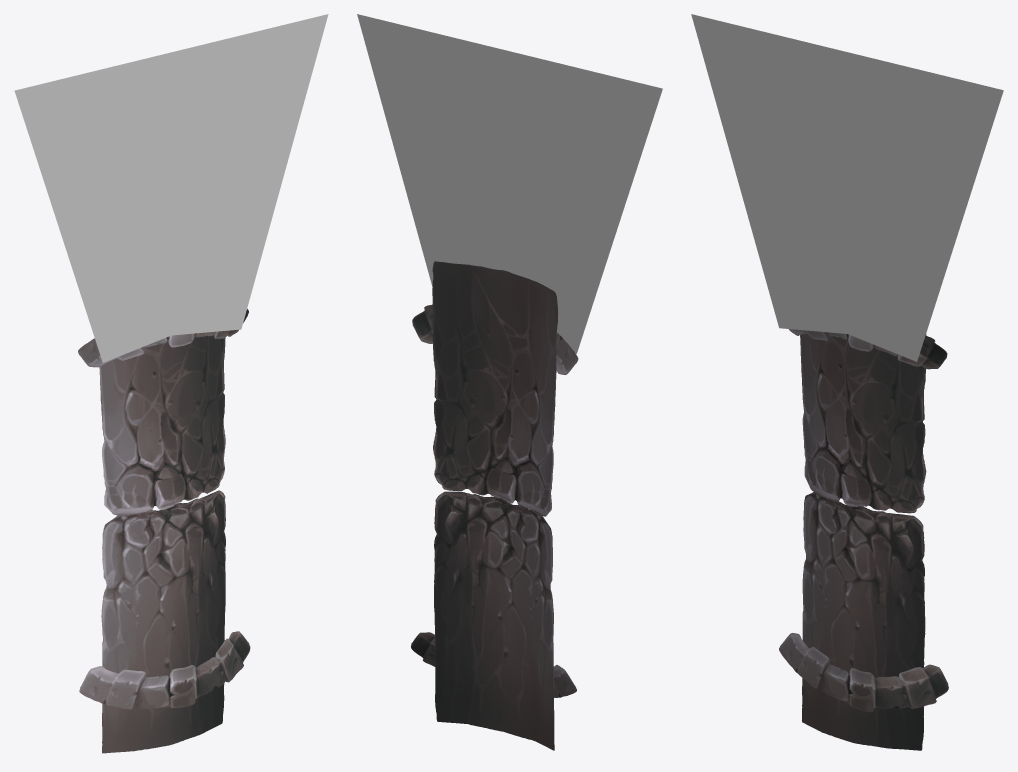
File: Stone Crush.FBX
3 renders of one model, left to right at view 1: azimuth 30°, elevation 25°; view 2: azimuth 150°, elevation 25°; view 3: azimuth 330°, elevation 25°, orthographic. The views are drawn at different scales.
Parts seen in each view (by area): view 1: StoneCrush Mask, Stone Crush Bottom, Stone Crush Top, StoneCrush Hole Bottom, StoneCrush Hole Top; view 2: StoneCrush Mask, Stone Crush Top, Stone Crush Bottom, StoneCrush Hole Top, StoneCrush Hole Bottom; view 3: StoneCrush Mask, Stone Crush Bottom, Stone Crush Top, StoneCrush Hole Bottom, StoneCrush Hole Top.
Part boxes in pixels (x1,y1,x2,y2): StoneCrush Mask: [14, 14, 328, 362]; Stone Crush Bottom: [101, 490, 225, 753]; Stone Crush Top: [99, 335, 225, 515]; StoneCrush Hole Bottom: [79, 631, 250, 709]; StoneCrush Hole Top: [78, 309, 248, 367]; StoneCrush Mask: [357, 14, 662, 353]; Stone Crush Top: [432, 261, 558, 516]; Stone Crush Bottom: [433, 491, 554, 750]; StoneCrush Hole Top: [412, 304, 578, 374]; StoneCrush Hole Bottom: [411, 632, 576, 697]; StoneCrush Mask: [691, 14, 1003, 361]; Stone Crush Bottom: [802, 492, 925, 750]; Stone Crush Top: [800, 334, 926, 513]; StoneCrush Hole Bottom: [779, 633, 948, 712]; StoneCrush Hole Top: [789, 329, 947, 369].
Bounding box in the file's own units: 980 × 73.4 × 2091.
